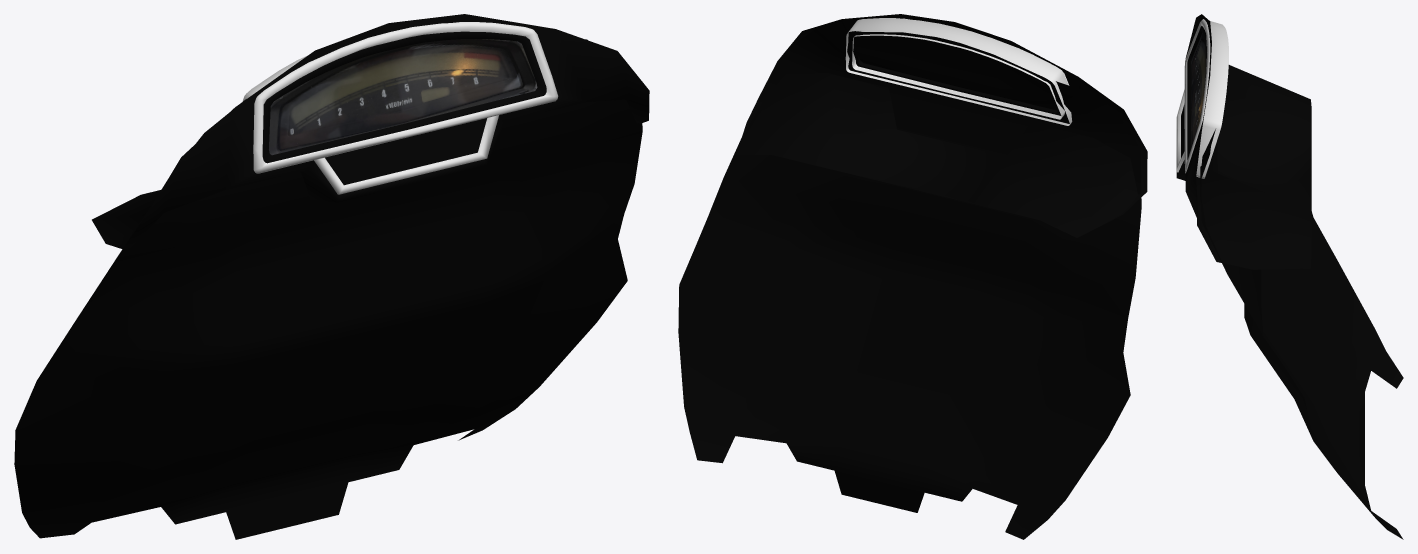
The model's file is Tach_Necelle.glb.
3 renders of one model, left to right at view 1: azimuth 30°, elevation 25°; view 2: azimuth 150°, elevation 25°; view 3: azimuth 270°, elevation 25°, orthographic. The views are drawn at different scales.
Visible parts, largest first — view 1: Tach_Necelle; view 2: Tach_Necelle; view 3: Tach_Necelle.
Part boxes in pixels (bbox=[...]): Tach_Necelle: bbox=[14, 14, 649, 539]; Tach_Necelle: bbox=[678, 14, 1147, 539]; Tach_Necelle: bbox=[1176, 14, 1403, 539].
Size of the model in its own units: 0.3342 by 0.3019 by 0.1434.
4 materials, 1 textured.
